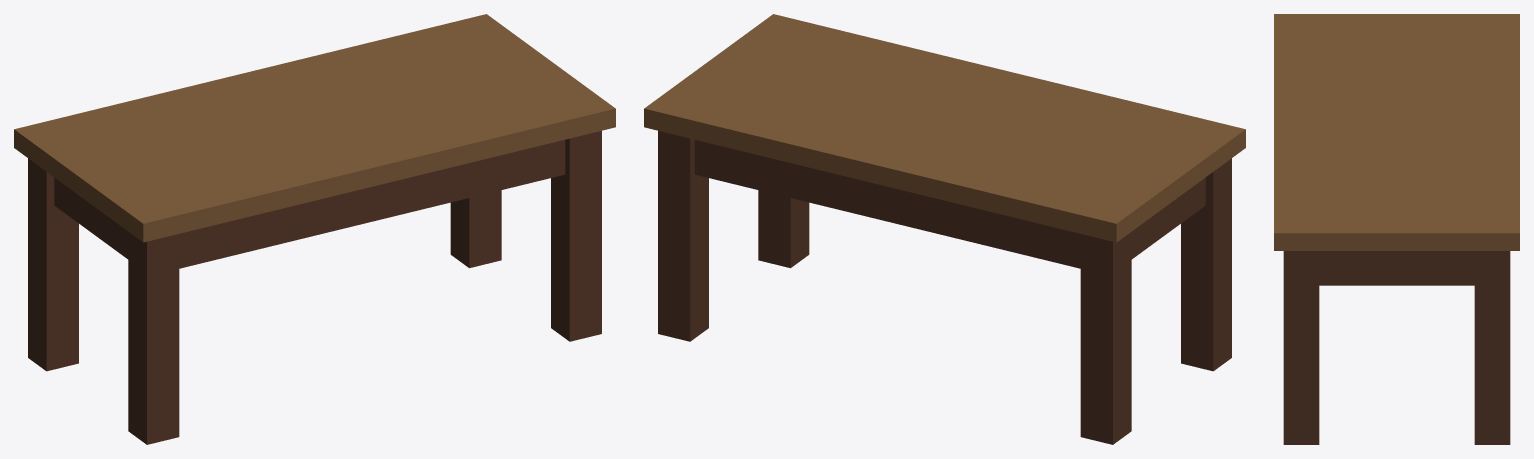
File: Table_4B.fbx
3 views of the same model, side by side, from view 1: azimuth 30°, elevation 25°; view 2: azimuth 150°, elevation 25°; view 3: azimuth 270°, elevation 25° (orthographic). The views are drawn at different scales.
Parts seen in each view (by area): view 1: polySurface1733; view 2: polySurface1733; view 3: polySurface1733.
Boxes of the visible parts, box(x1,y1,x2,y2) form: polySurface1733: box(14, 14, 615, 444); polySurface1733: box(644, 14, 1245, 444); polySurface1733: box(1274, 14, 1519, 444).
Size of the model in its own units: 1.9 by 0.872 by 0.9.
Materials: 1 (1 with a texture image).
